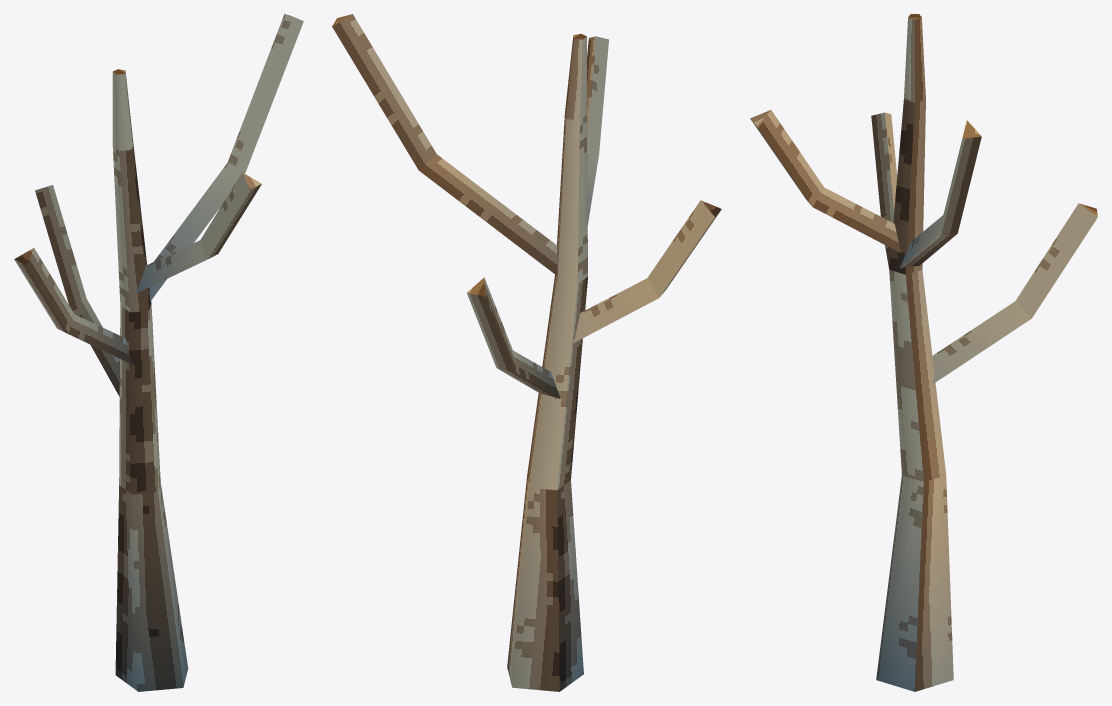
File: wland.dead_tree.glb
The picture shows the model from 3 angles, left to right: view 1: azimuth 30°, elevation 25°; view 2: azimuth 150°, elevation 25°; view 3: azimuth 270°, elevation 25°; orthographic projection. The views are drawn at different scales.
Visible parts, largest first — view 1: kit_trunk, kit_branches; view 2: kit_trunk, kit_branches; view 3: kit_trunk, kit_branches.
Part boxes in pixels (x1,y1,x2,y2): kit_trunk: (112,69,188,691); kit_branches: (14,14,303,396); kit_trunk: (507,34,587,691); kit_branches: (332,14,721,398); kit_trunk: (876,14,953,691); kit_branches: (750,110,1097,384).
Size of the model in its own units: 2.14 by 3.88 by 1.91.
Materials: 1 (1 with a texture image).
